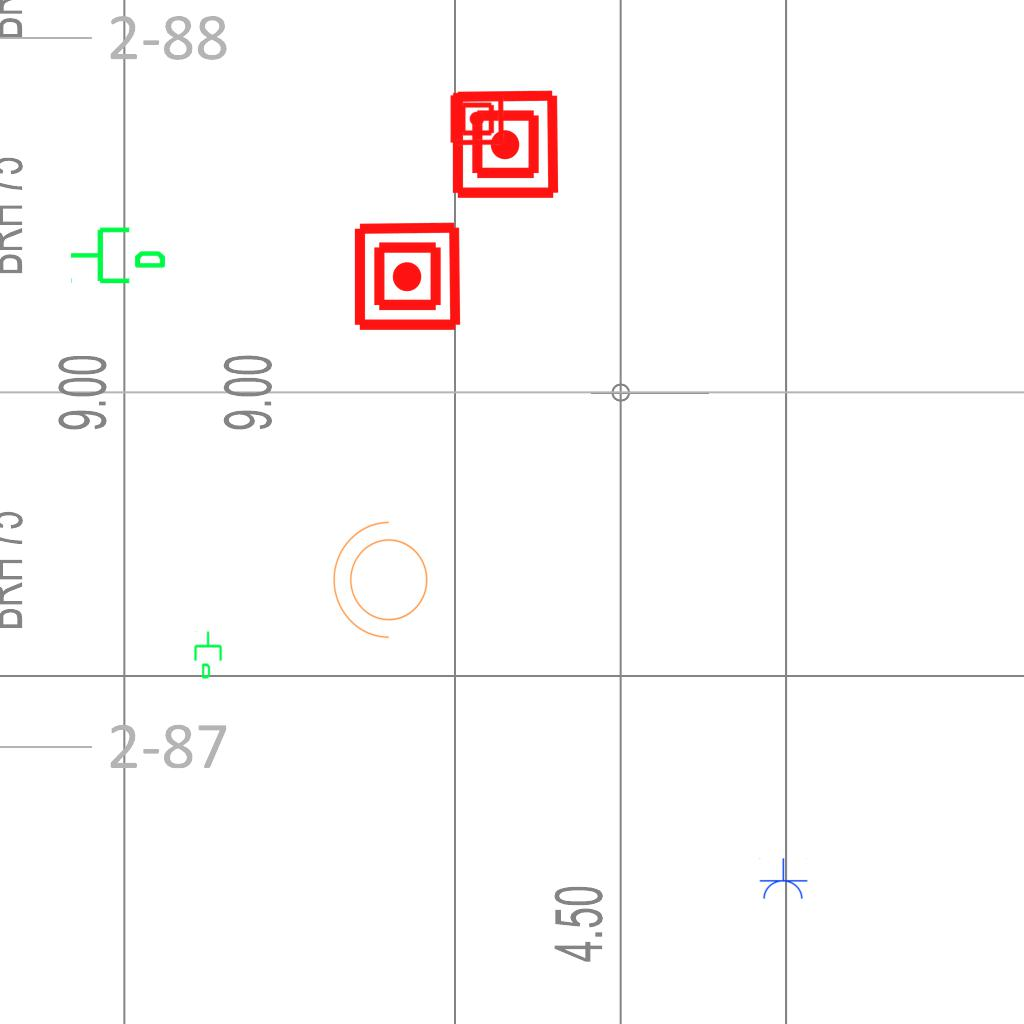Datenanschluss_einfach: (68, 219, 168, 288), (192, 630, 226, 680)
NAM-Nichtautomatischer_Melder: (449, 88, 562, 201), (351, 220, 464, 333), (449, 91, 505, 147)
Scheinwerfer_fuer_Alarmbeleuchtung: (328, 517, 440, 649)
Schukosteckdose_einfach: (758, 858, 808, 901)
